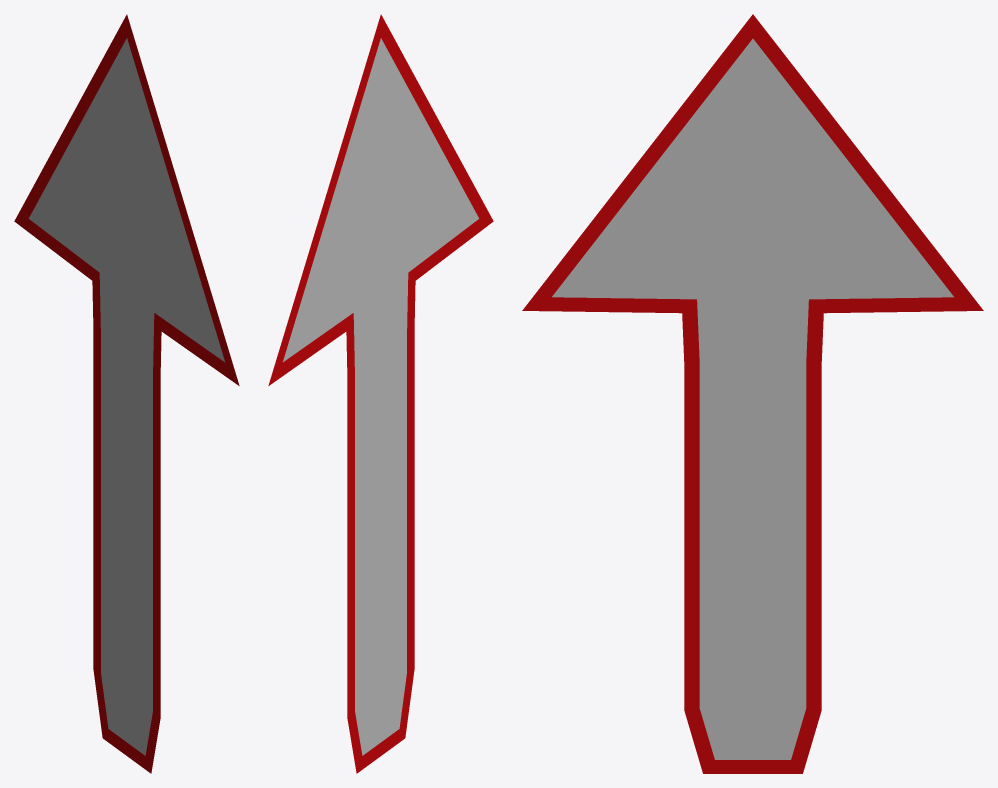
Rendered from 3D_Model_Arrow.fbx.
The picture shows the model from 3 angles, left to right: view 1: azimuth 30°, elevation 25°; view 2: azimuth 150°, elevation 25°; view 3: azimuth 270°, elevation 25°; orthographic projection. The views are drawn at different scales.
Visible parts, largest first — view 1: Plane; view 2: Plane; view 3: Plane.
Part boxes in pixels (x1,y1,x2,y2): Plane: (14, 14, 239, 773); Plane: (268, 14, 493, 773); Plane: (522, 14, 983, 773).
Size of the model in its own units: 4.16e-07 by 164 by 90.13.
